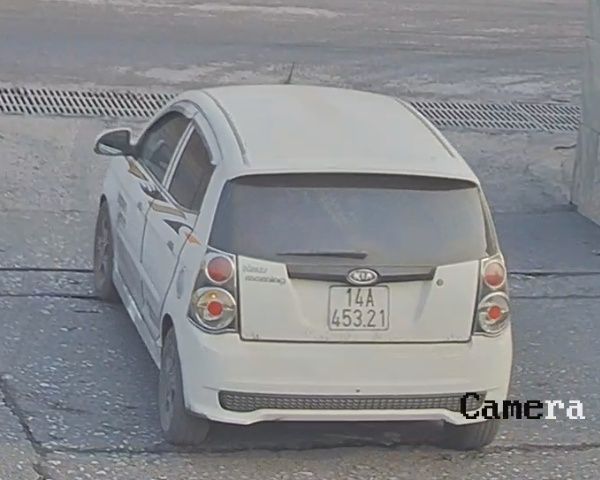vehicle plate: (325, 281, 391, 332)
